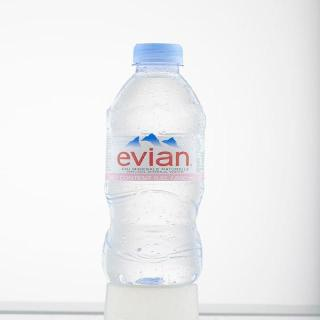Plastic-bottle: (96, 39, 210, 293)
